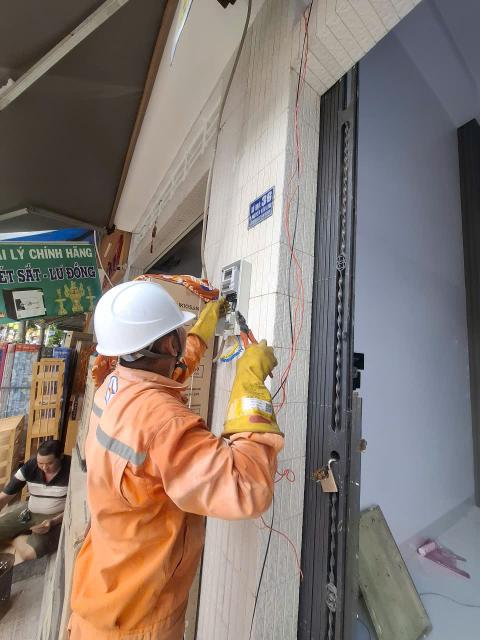gloves: (222, 318, 305, 464), (186, 278, 238, 359)
helmet: (75, 270, 210, 360)
